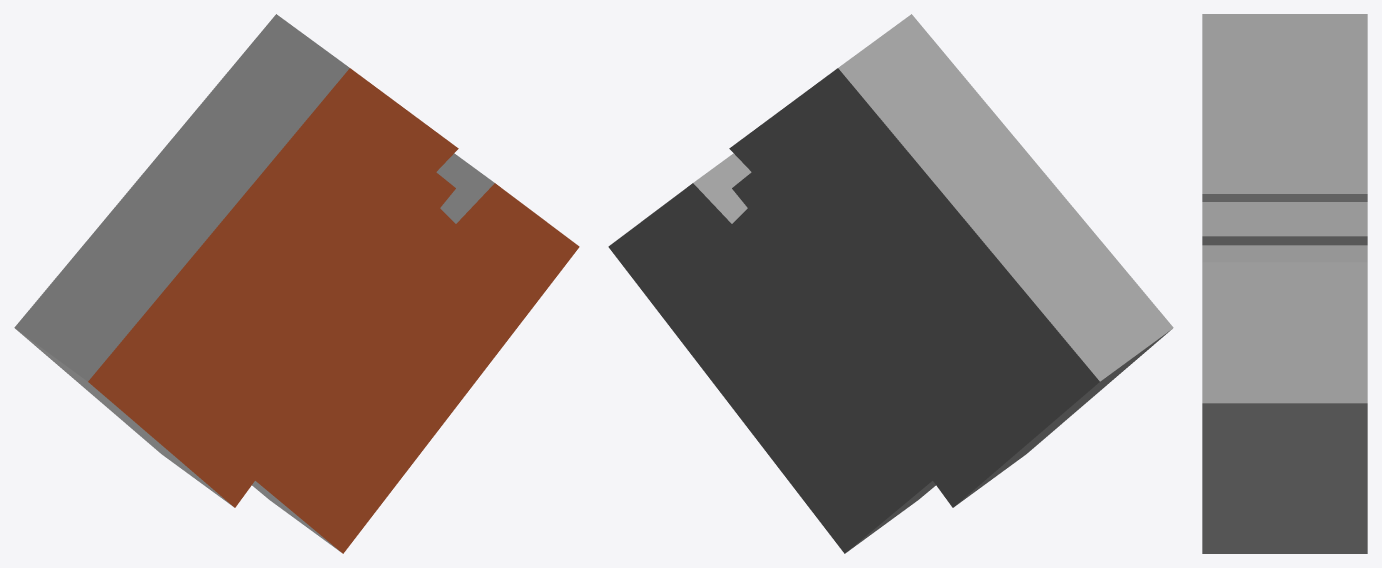
Rendered from construction_3437_assumed_A_Casa_h6m.obj.
3 views of the same model, side by side, from view 1: azimuth 30°, elevation 25°; view 2: azimuth 150°, elevation 25°; view 3: azimuth 270°, elevation 25° (orthographic). The views are drawn at different scales.
Visible parts, largest first — view 1: construction_3437_assumed_A_Casa; view 2: construction_3437_assumed_A_Casa; view 3: construction_3437_assumed_A_Casa.
Boxes of the visible parts, x1,y1,x2,y2 form: construction_3437_assumed_A_Casa: (14,14,579,553); construction_3437_assumed_A_Casa: (608,14,1173,553); construction_3437_assumed_A_Casa: (1202,14,1367,553).
Size of the model in its own units: 23.12 by 21.76 by 6.
